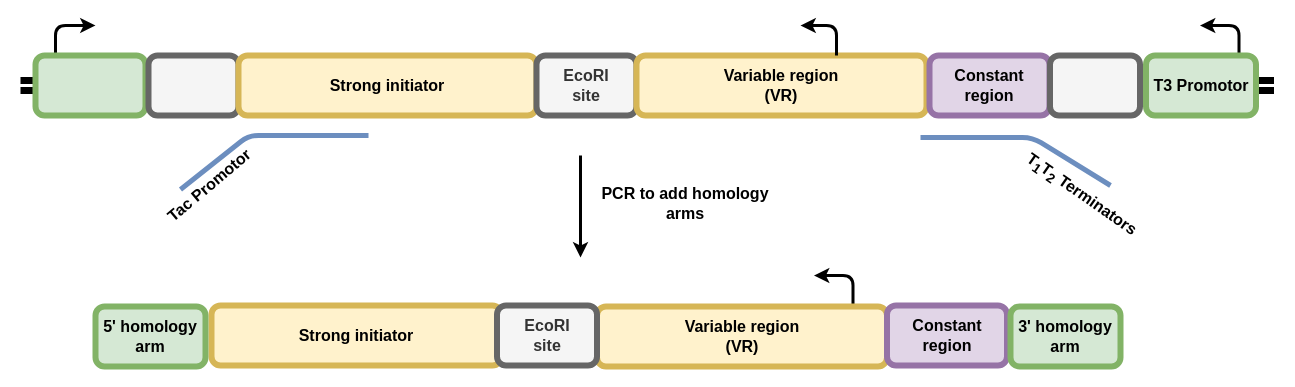
This 1295x387 diagram has some shape labels left out. Each missing label, with the box of its shape:
HindIII site: (145, 52, 241, 118)
KpnI site: (1046, 52, 1142, 118)
T7 Promotor: (32, 52, 148, 118)
